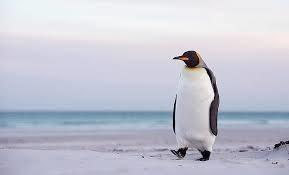king: (157, 44, 228, 167)
